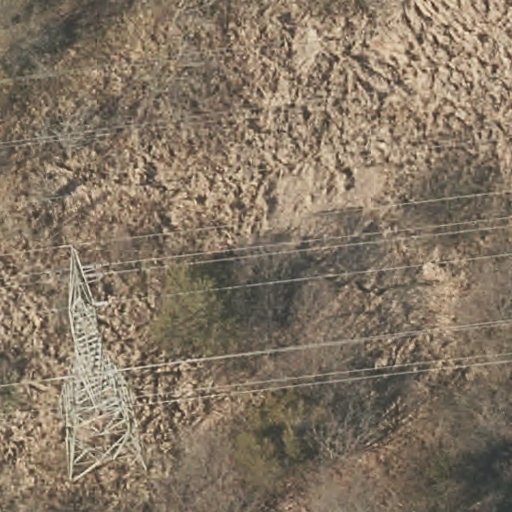TT: (56, 241, 150, 480)
